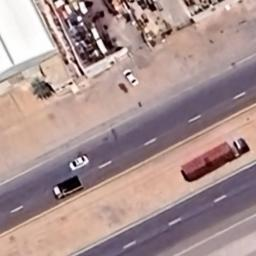sedan: (68, 154, 91, 171), (122, 68, 140, 87)
truck: (180, 136, 250, 182), (52, 175, 84, 200)
